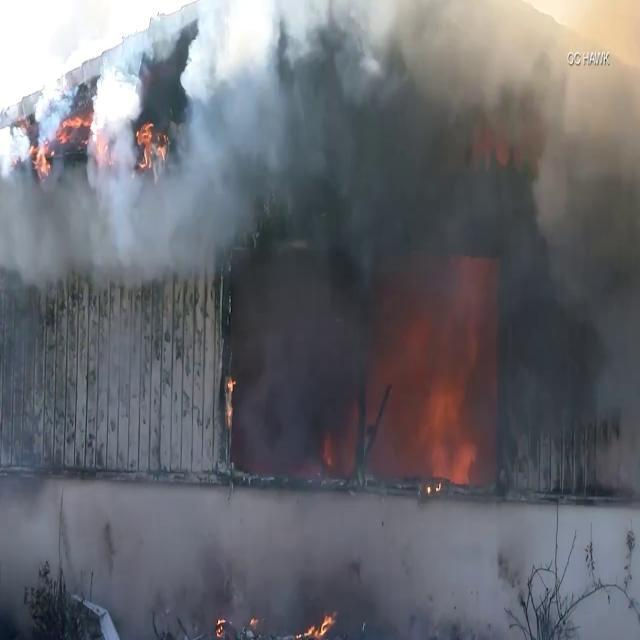Fire: (132, 115, 168, 177)
Smoke: (229, 0, 640, 488), (0, 22, 241, 285)
